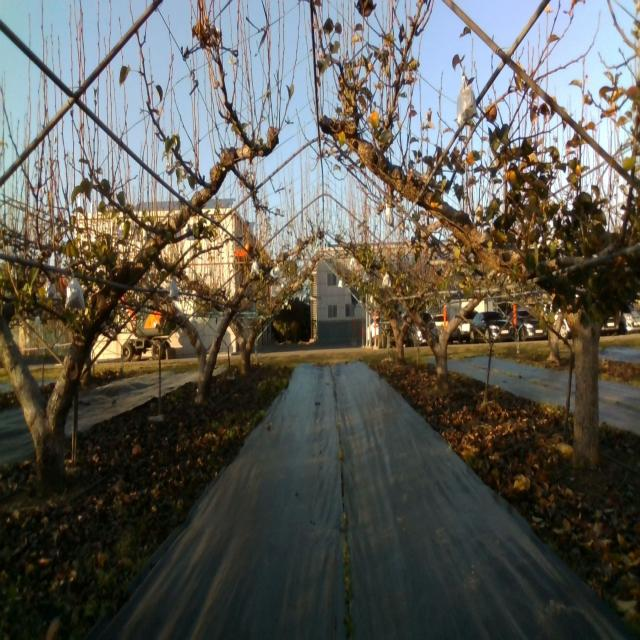pearbags: (456, 74, 479, 124), (65, 277, 85, 311), (384, 203, 394, 228), (169, 279, 179, 301)
